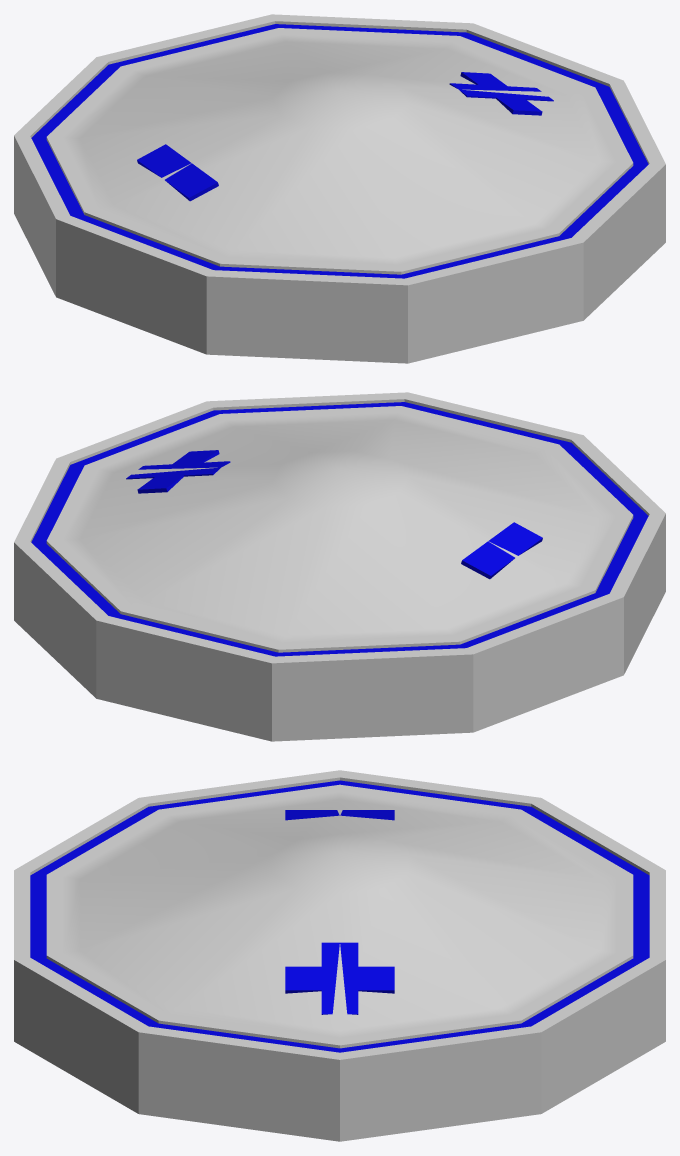
The model's file is Powercell_01.fbx.
The picture shows the model from 3 angles, top to bottom: view 1: azimuth 30°, elevation 25°; view 2: azimuth 150°, elevation 25°; view 3: azimuth 270°, elevation 25°; orthographic projection. The views are drawn at different scales.
Parts seen in each view (by area): view 1: polySurface4; view 2: polySurface4; view 3: polySurface4.
Part boxes in pixels (<box>): polySurface4: <box>14,14,665,363</box>; polySurface4: <box>14,392,665,741</box>; polySurface4: <box>14,770,665,1141</box>.
Size of the model in its own units: 20 by 4.62 by 19.02.
